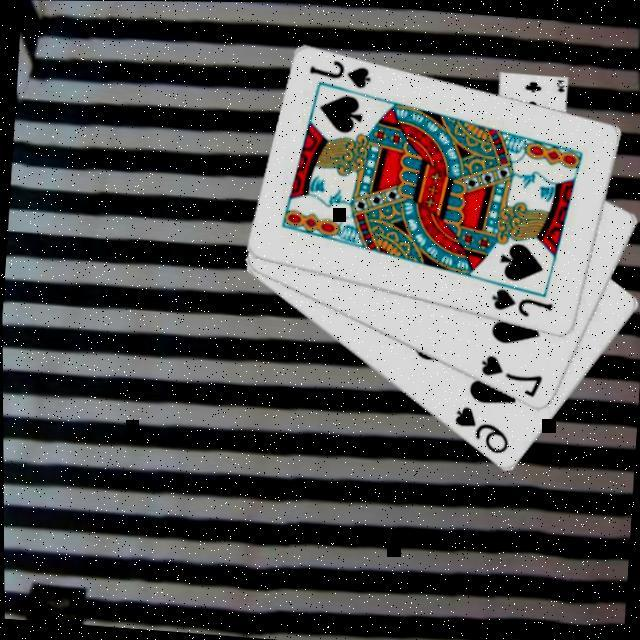7S: (477, 349, 548, 400)
9S: (450, 402, 516, 456)
JS: (488, 283, 558, 320), (307, 54, 377, 90)
